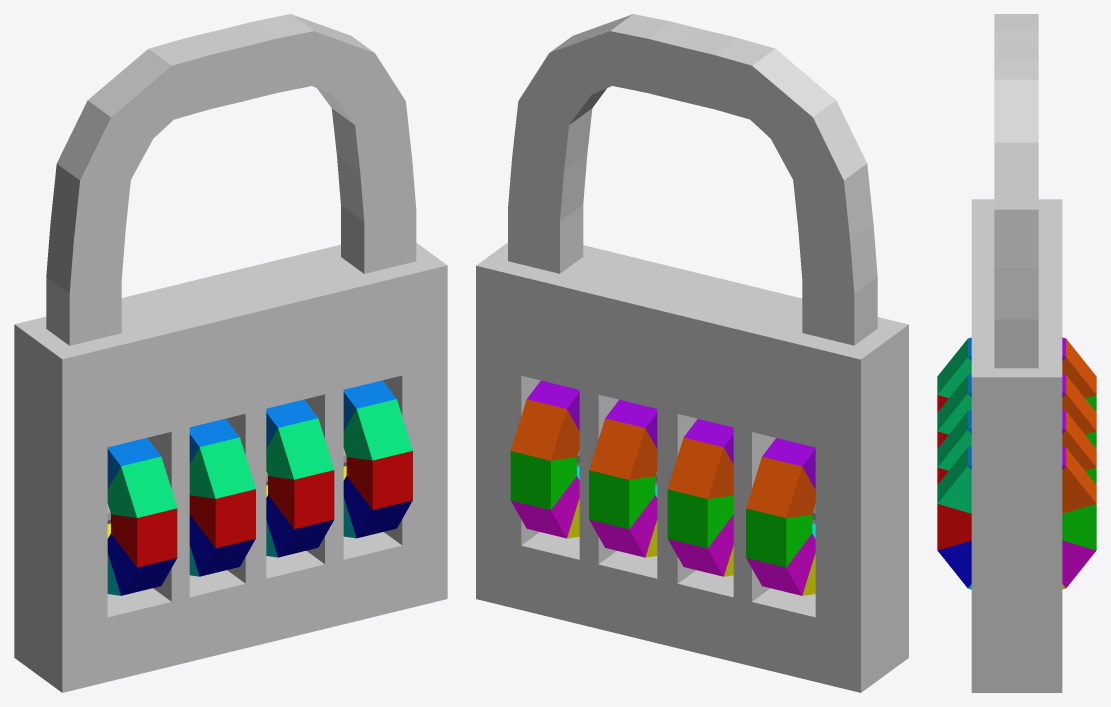
The model's file is S_Cadena.fbx.
The picture shows the model from 3 angles, left to right: view 1: azimuth 30°, elevation 25°; view 2: azimuth 150°, elevation 25°; view 3: azimuth 270°, elevation 25°; orthographic projection. The views are drawn at different scales.
Visible parts, largest first — view 1: S_Cadena, wheel1, wheel4, wheel3, wheel2; view 2: S_Cadena, wheel1, wheel4, wheel3, wheel2; view 3: S_Cadena, wheel4, wheel1, wheel2, wheel3.
Part boxes in pixels (x1=…): S_Cadena: x1=14, y1=14, x2=447, y2=692; wheel1: x1=107, y1=438, x2=177, y2=595; wheel4: x1=343, y1=380, x2=412, y2=538; wheel3: x1=266, y1=399, x2=334, y2=557; wheel2: x1=189, y1=418, x2=255, y2=576; S_Cadena: x1=476, y1=14, x2=908, y2=692; wheel1: x1=746, y1=438, x2=815, y2=595; wheel4: x1=510, y1=380, x2=579, y2=538; wheel3: x1=589, y1=399, x2=657, y2=557; wheel2: x1=667, y1=419, x2=733, y2=576; S_Cadena: x1=971, y1=14, x2=1062, y2=692; wheel4: x1=937, y1=446, x2=1096, y2=589; wheel1: x1=937, y1=337, x2=1096, y2=412; wheel2: x1=937, y1=373, x2=1096, y2=448; wheel3: x1=937, y1=410, x2=1096, y2=484.
Size of the model in its own units: 46.61 by 68.27 by 17.62.
